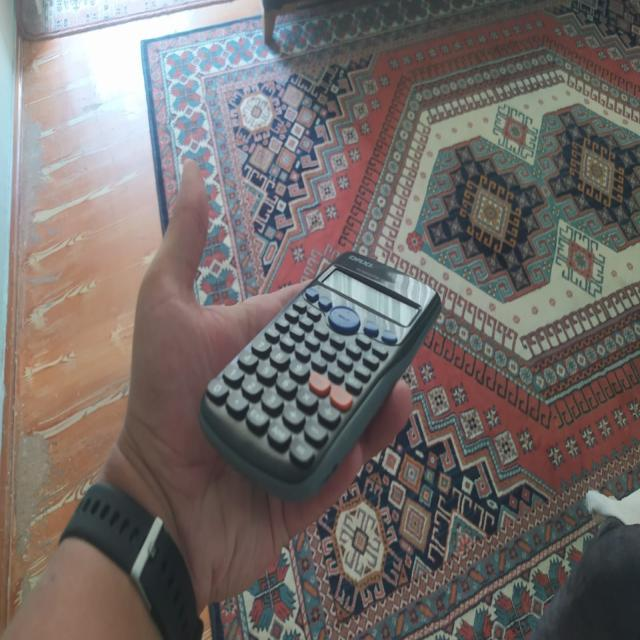Calculator: (197, 248, 442, 505)
